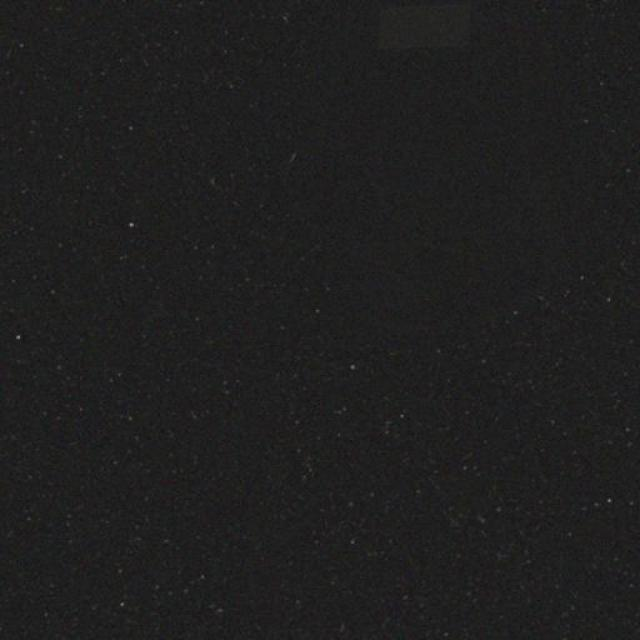cheops: (305, 0, 499, 78)
